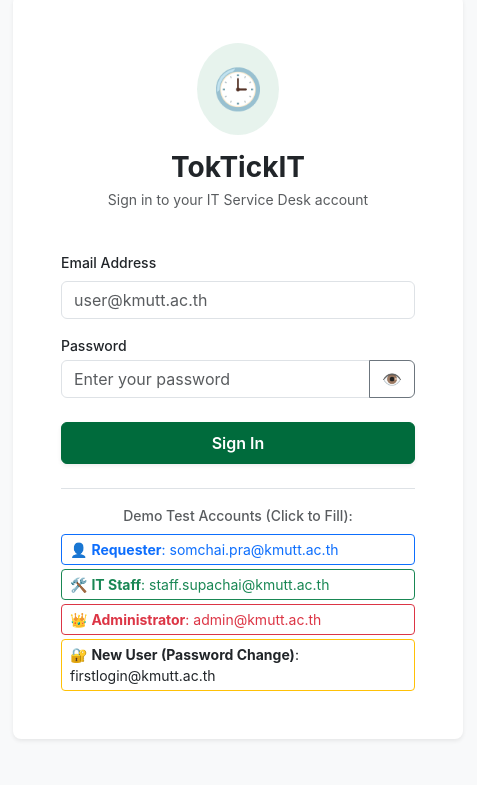
UI-01 to UI-04: Login Component (client/tests/lab-03/Login.test.tsx) › UI-04 (AC-05): renders server error banner upon invalid credentials or deactivated account
In the field labelled "Email Address": (238, 300) [61,281,415,319], type "somchai.pra@kmutt.ac.th"
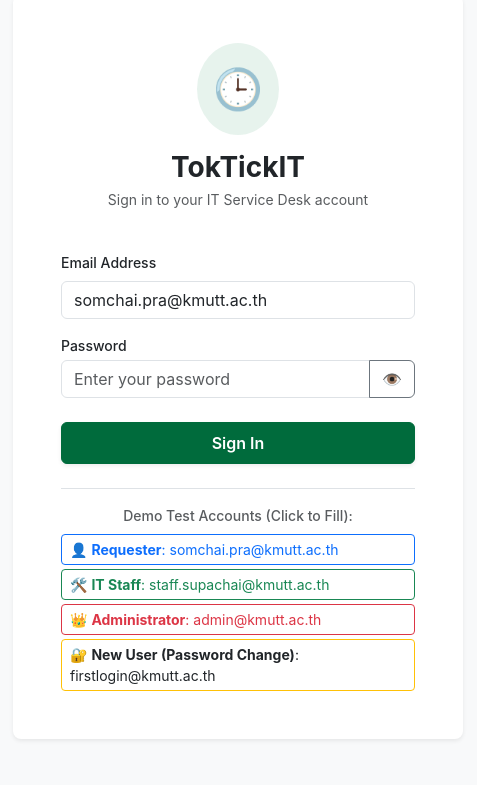
In the password field labelled "Password": (216, 379) [61,360,370,398], type "WrongPassword!"
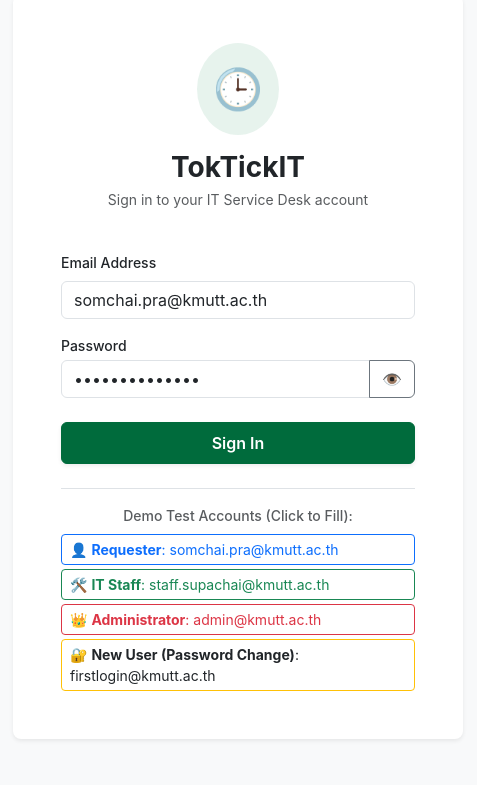
Click the button "Sign In": (238, 443) [61,422,415,464]
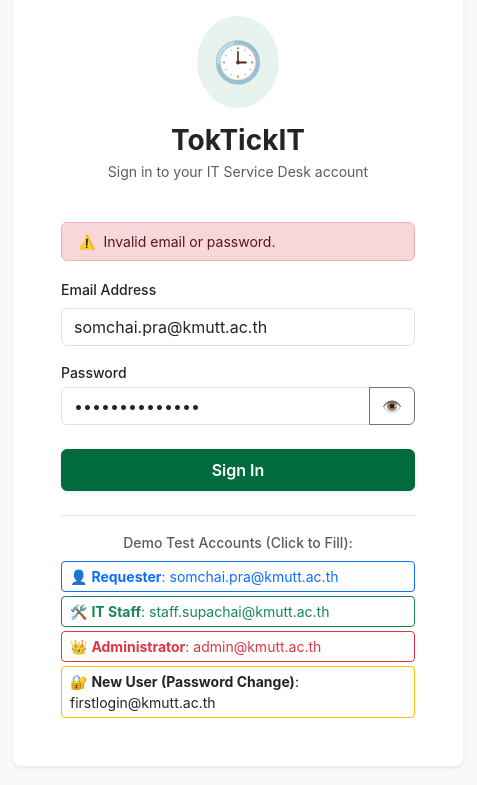
Check: the text "Invalid email or password." is shown, box [104,231,276,252]
